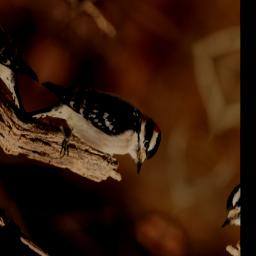Woodpecker: (19, 54, 172, 206)
